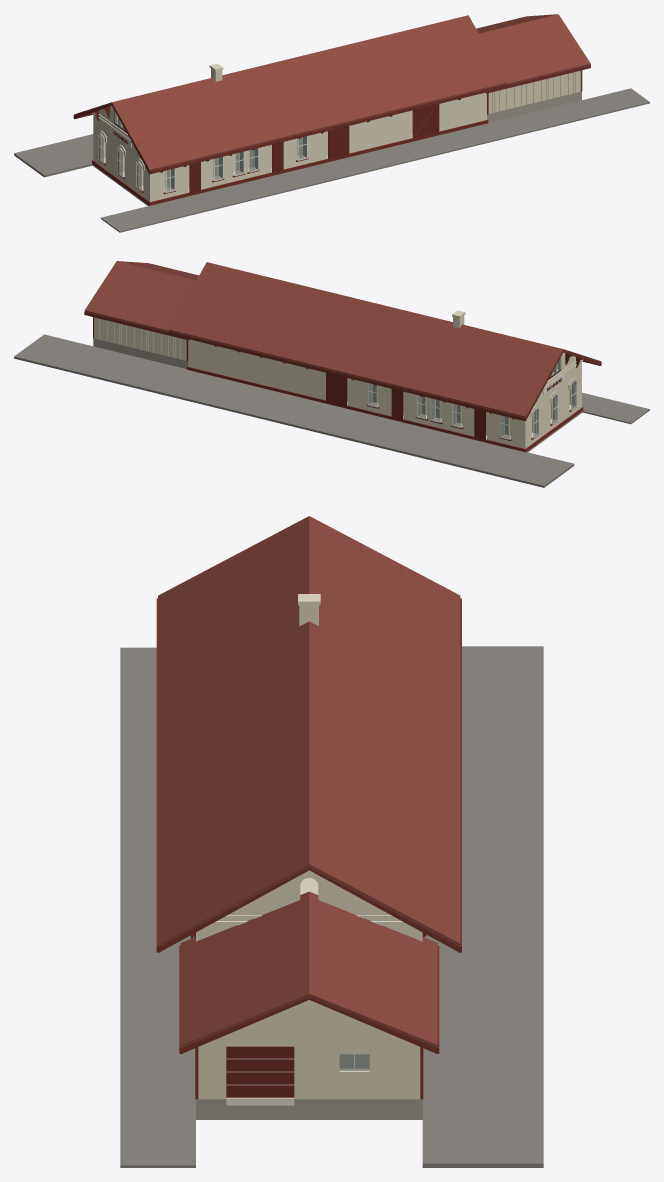
File: Brodhead_Depot_2026.glb
The picture shows the model from 3 angles, top to bottom: view 1: azimuth 30°, elevation 25°; view 2: azimuth 150°, elevation 25°; view 3: azimuth 270°, elevation 25°; orthographic projection. The views are drawn at different scales.
Parts seen in each view (by area): view 1: roof, platform, brick, trim, doors, walls, stone, foundation, sash, glass; view 2: roof, platform, brick, trim, walls, stone, doors, sash, glass, foundation; view 3: roof, platform, walls, trim, foundation, brick, doors.
Boxes of the visible parts, x1,y1,x2,y2 form: roof: (74, 14, 590, 170); platform: (14, 88, 649, 232); brick: (92, 93, 486, 201); trim: (73, 65, 590, 174); doors: (113, 105, 437, 192); walls: (488, 70, 580, 113); stone: (92, 120, 488, 205); foundation: (92, 91, 581, 205); sash: (98, 123, 307, 192); glass: (99, 111, 306, 191); roof: (84, 261, 601, 417); platform: (14, 334, 649, 487); brick: (188, 339, 583, 448); trim: (84, 311, 601, 421); walls: (94, 317, 186, 360); stone: (187, 366, 583, 452); doors: (326, 372, 562, 439); sash: (367, 370, 577, 439); glass: (368, 358, 576, 438); foundation: (93, 338, 582, 452); roof: (158, 516, 460, 1048); platform: (120, 646, 543, 1167); walls: (198, 1000, 420, 1099); trim: (156, 543, 461, 1099); foundation: (196, 1099, 422, 1119); brick: (196, 870, 422, 941); doors: (191, 935, 294, 1097).
Bounding box in the file's own units: 1.7 × 0.2964 × 0.5886.
